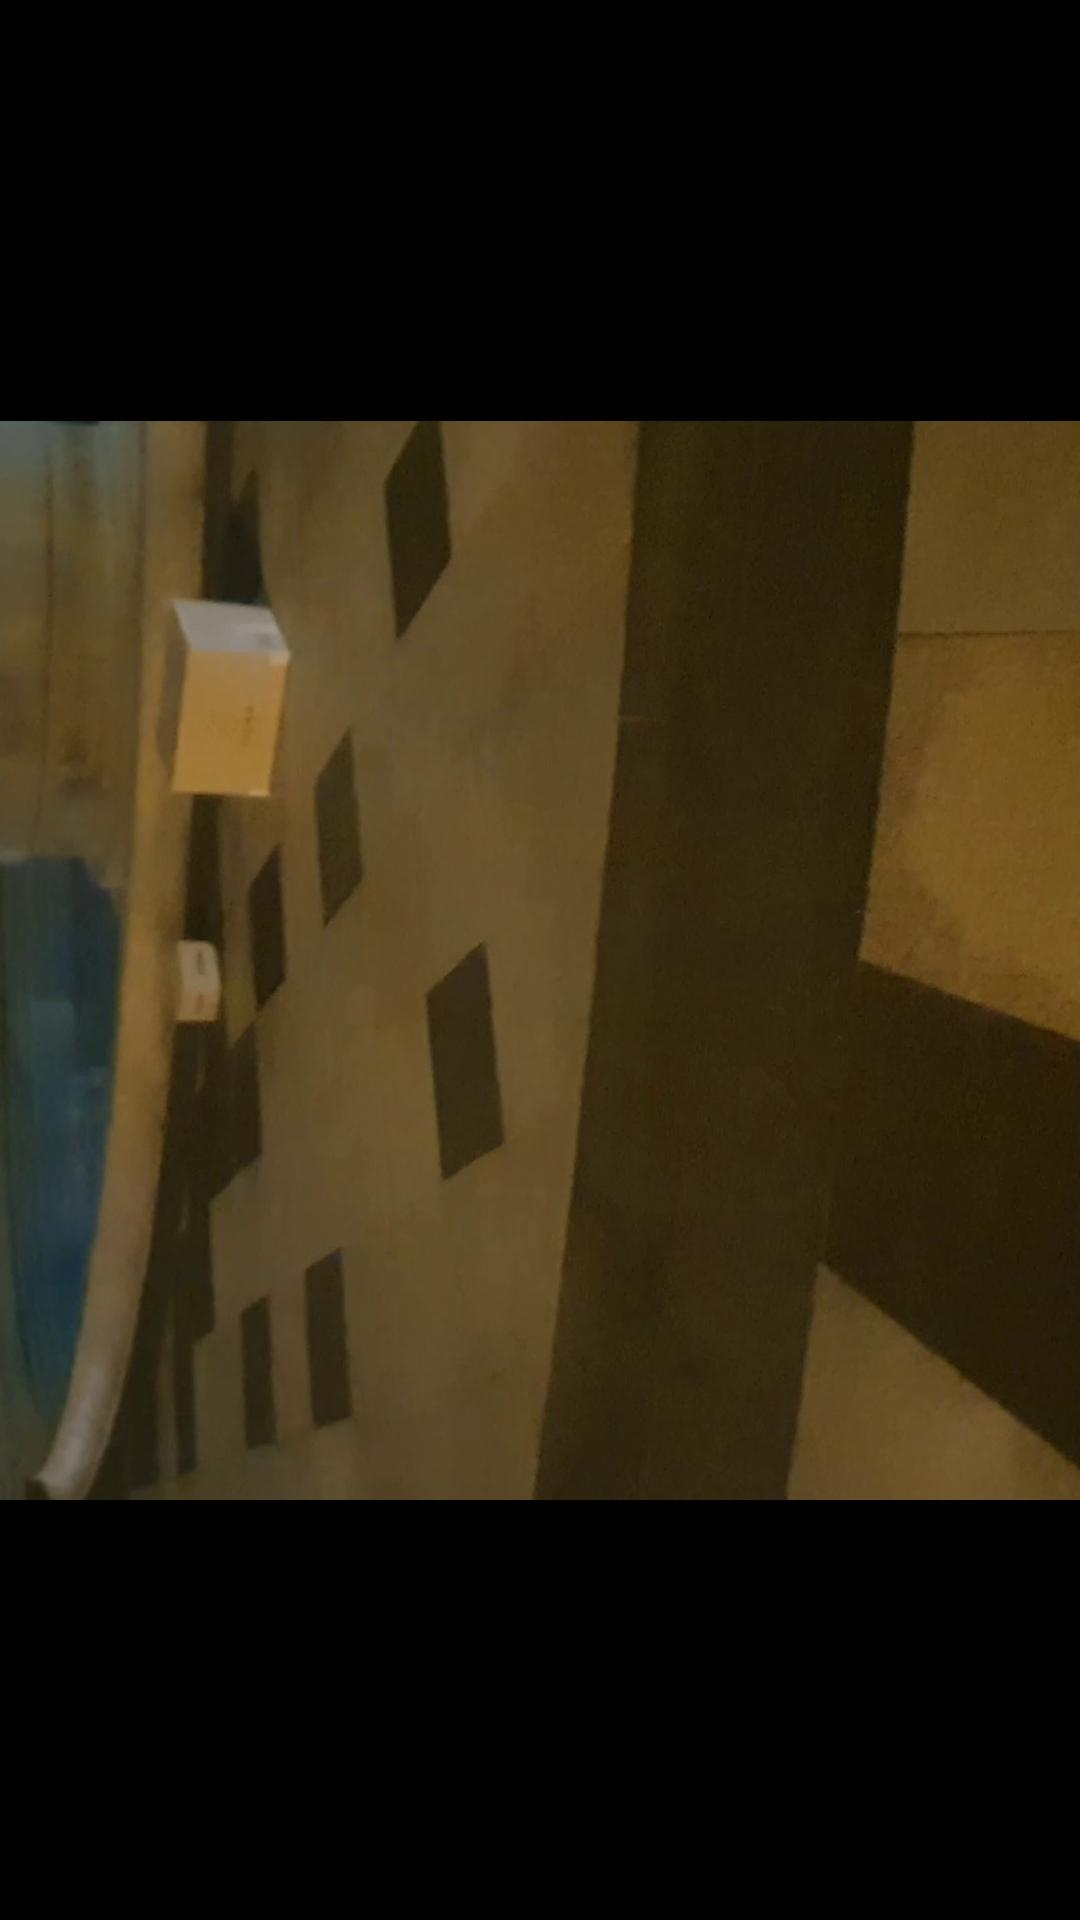Box: (145, 593, 297, 802), (156, 916, 232, 1039)
